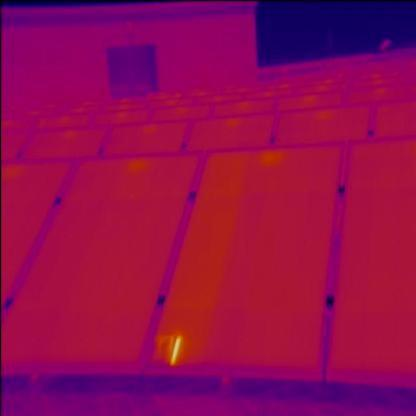anomaly: (160, 331, 185, 367)
